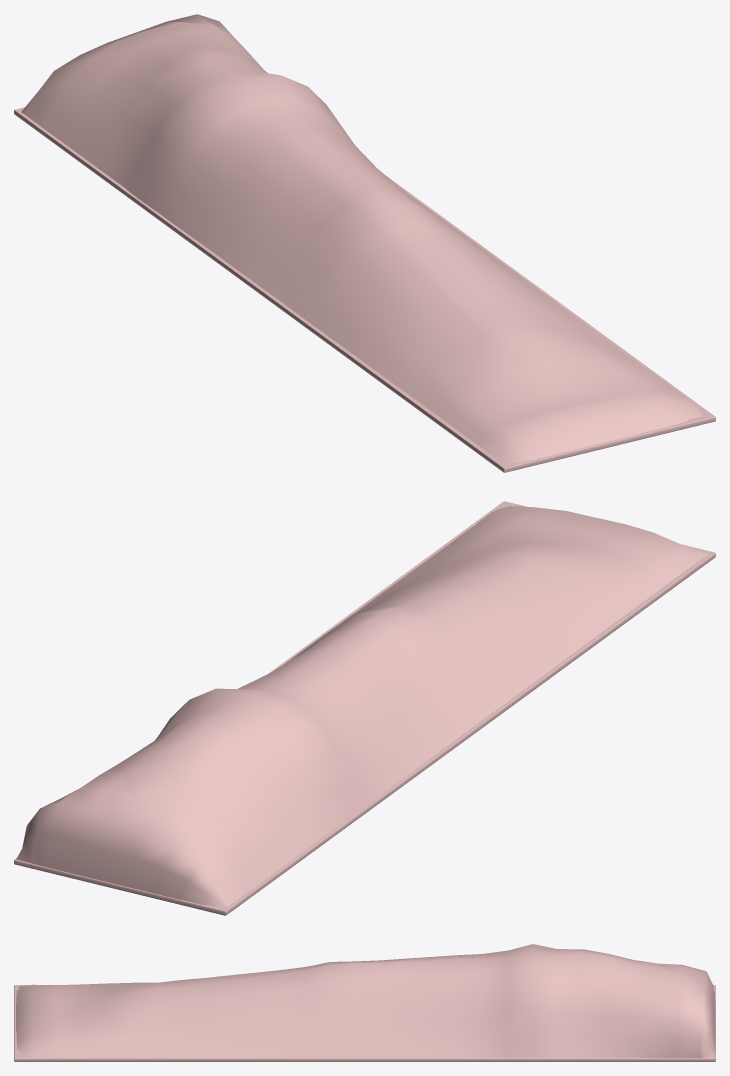
The model's file is Syringe.fbx.
3 views of the same model, one above another, from view 1: azimuth 30°, elevation 25°; view 2: azimuth 150°, elevation 25°; view 3: azimuth 270°, elevation 25° (orthographic). The views are drawn at different scales.
Visible parts, largest first — view 1: syringe_plastic_package, syringe_package; view 2: syringe_plastic_package, syringe_package; view 3: syringe_plastic_package, syringe_package.
Boxes of the visible parts, x1,y1,x2,y2 form: syringe_plastic_package: [21, 14, 701, 464]; syringe_package: [14, 107, 715, 472]; syringe_plastic_package: [16, 506, 708, 907]; syringe_package: [14, 501, 715, 915]; syringe_plastic_package: [16, 944, 715, 1058]; syringe_package: [14, 985, 715, 1061].
Size of the model in its own units: 0.0886 by 0.0406 by 0.3544.
